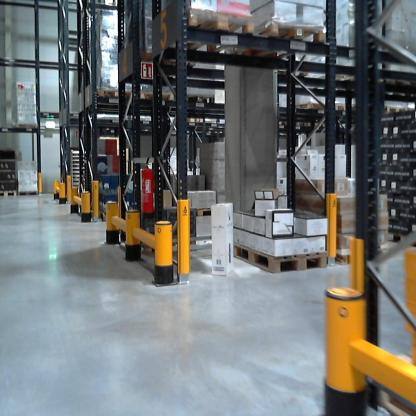pallet: (162, 6, 264, 70), (232, 215, 329, 278), (240, 17, 322, 63), (378, 338, 415, 415), (324, 237, 392, 274), (87, 86, 142, 104), (290, 100, 333, 121), (178, 93, 223, 109), (141, 89, 179, 105), (198, 199, 222, 221), (332, 101, 365, 117), (14, 121, 44, 132), (383, 105, 410, 115), (17, 187, 41, 197), (1, 186, 17, 198)
